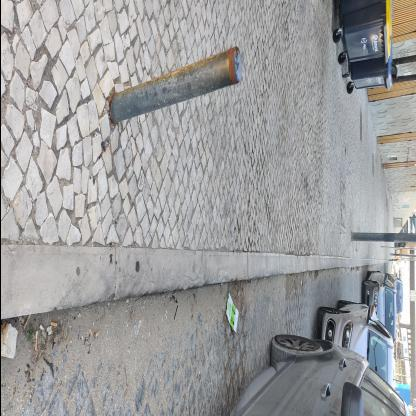karton: (226, 293, 240, 335)
